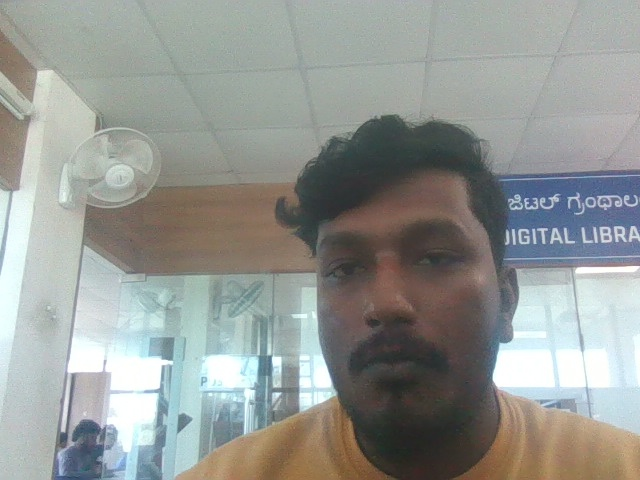real: (280, 94, 533, 452)
